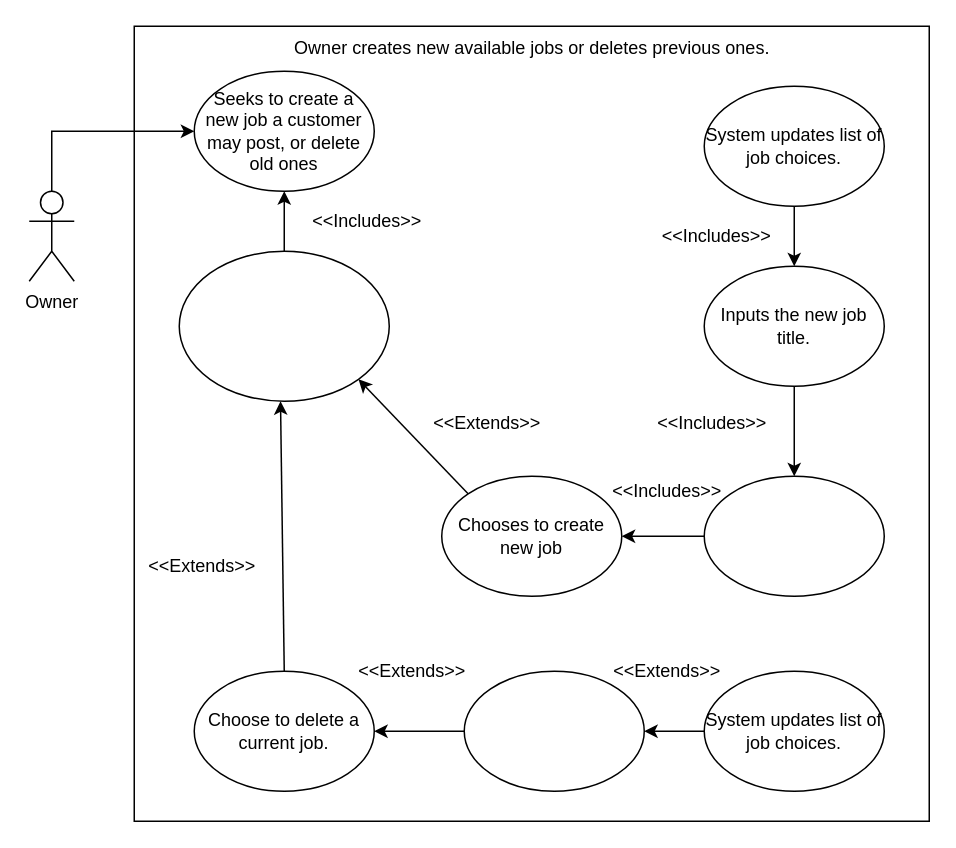
Image size: 956x848. Some labels were removed from this diagram. The centre of each missing label's shape, as x and y in pixels:
"Confirmation is requested." goes at point (553, 730).
"System creates room in database for new job." goes at point (793, 535).
"System lists all current available job and a option to post a new one." goes at point (283, 325).
